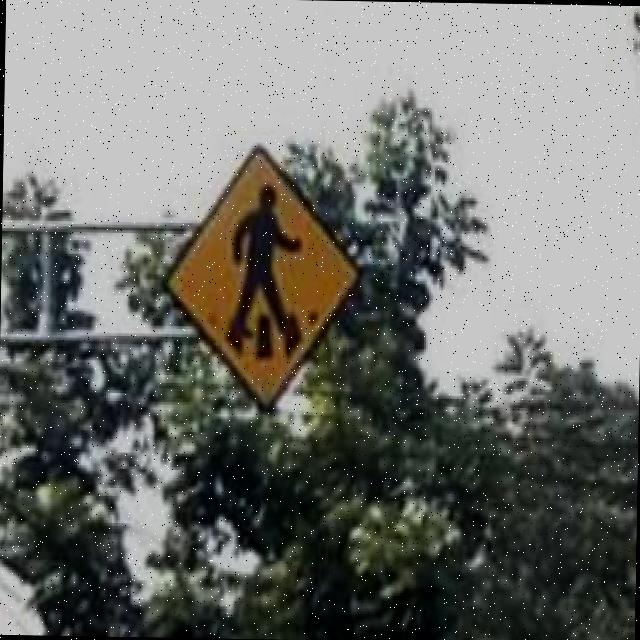Przejscie dla pieszych: (162, 148, 358, 402)
